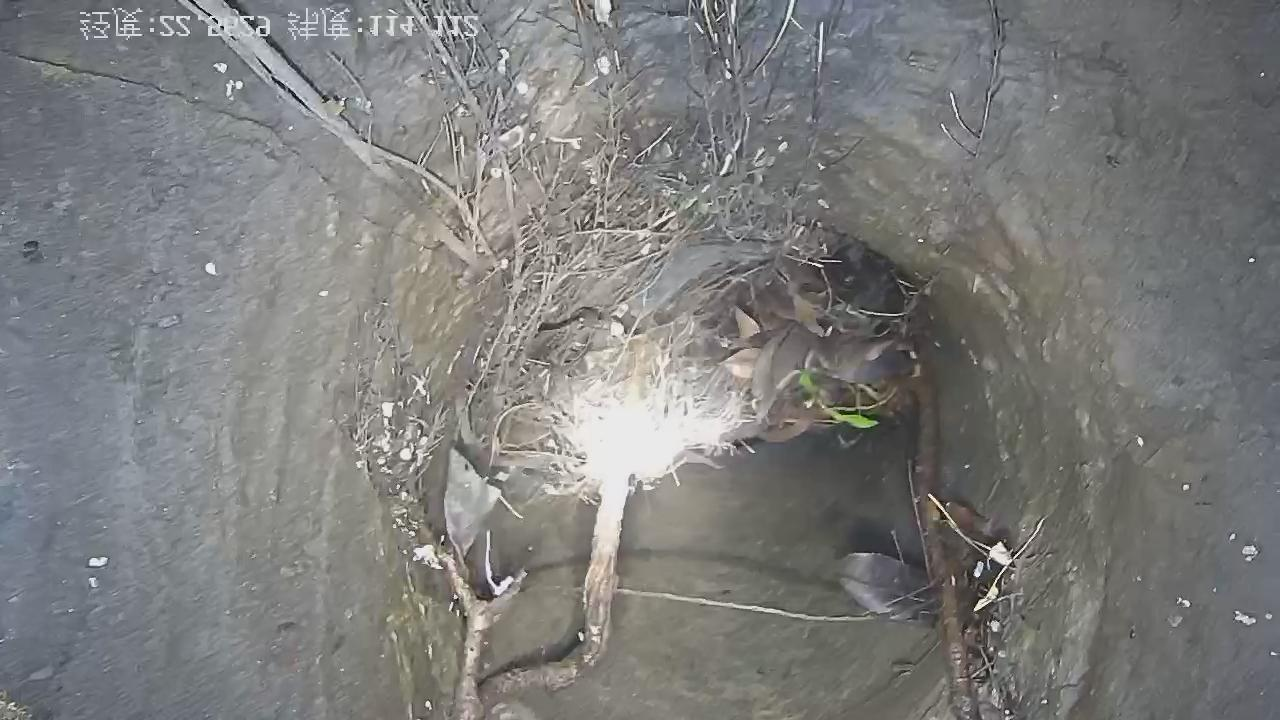SG: (184, 1, 1025, 720)
